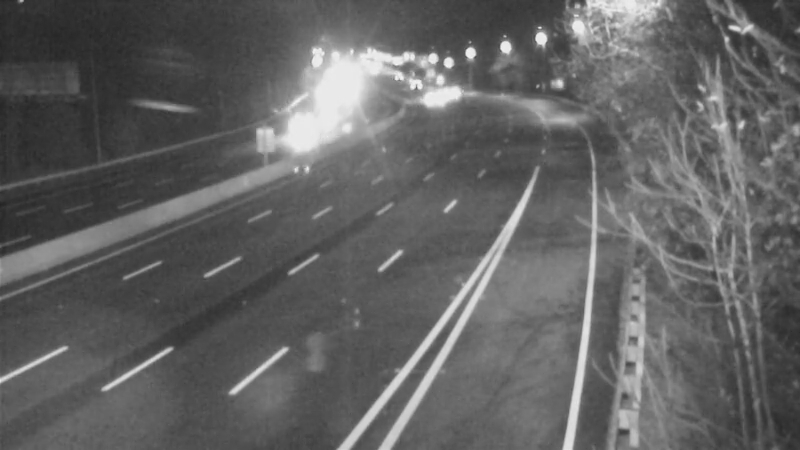vehicle: (390, 58, 440, 108), (428, 67, 478, 117), (404, 74, 454, 124), (274, 102, 324, 152)
